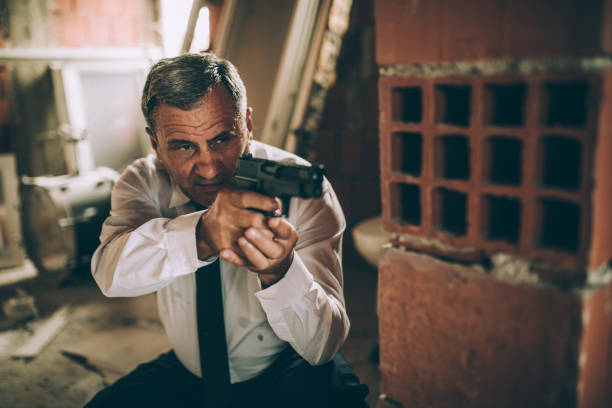gun: (234, 154, 323, 220)
